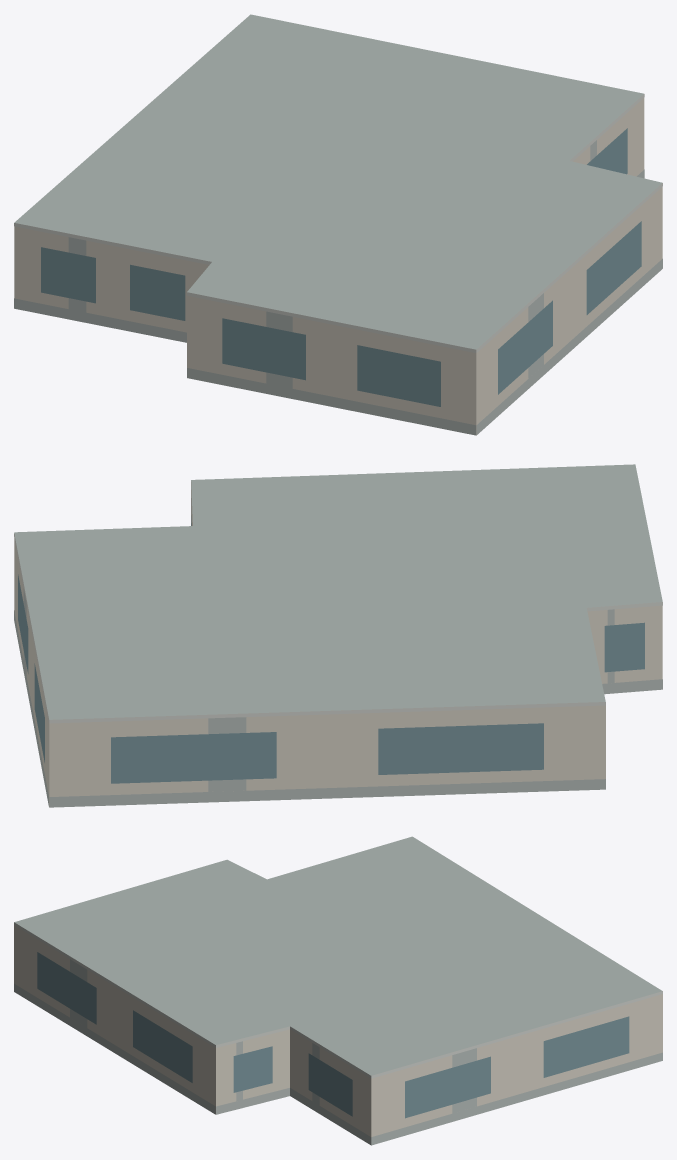
The model's file is survey-upis-32774646.glb.
The picture shows the model from 3 angles, top to bottom: view 1: azimuth 30°, elevation 25°; view 2: azimuth 150°, elevation 25°; view 3: azimuth 270°, elevation 25°; orthographic projection. The views are drawn at different scales.
Parts seen in each view (by area): view 1: survey-upis-32774646.tmp; view 2: survey-upis-32774646.tmp; view 3: survey-upis-32774646.tmp.
Boxes of the visible parts, box(x1,y1,x2,y2) form: survey-upis-32774646.tmp: box(14, 14, 662, 435); survey-upis-32774646.tmp: box(14, 464, 662, 807); survey-upis-32774646.tmp: box(14, 836, 662, 1145).
Size of the model in its own units: 22.5 by 3.05 by 25.77.
